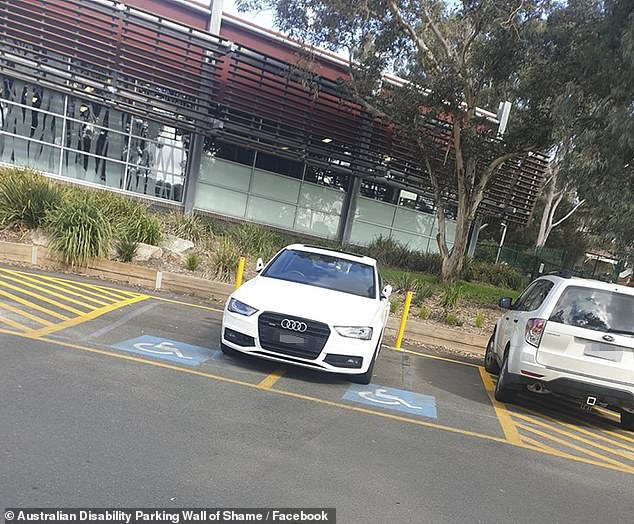car: (218, 240, 395, 387), (489, 268, 634, 442)
